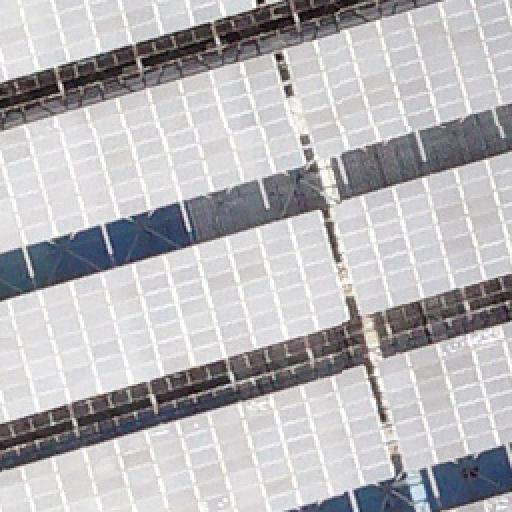solar-panel: (0, 208, 352, 424), (0, 52, 308, 256), (0, 361, 396, 511), (281, 0, 511, 164), (328, 152, 512, 316), (0, 1, 260, 87), (376, 320, 512, 472), (440, 489, 512, 511), (266, 1, 286, 7)
